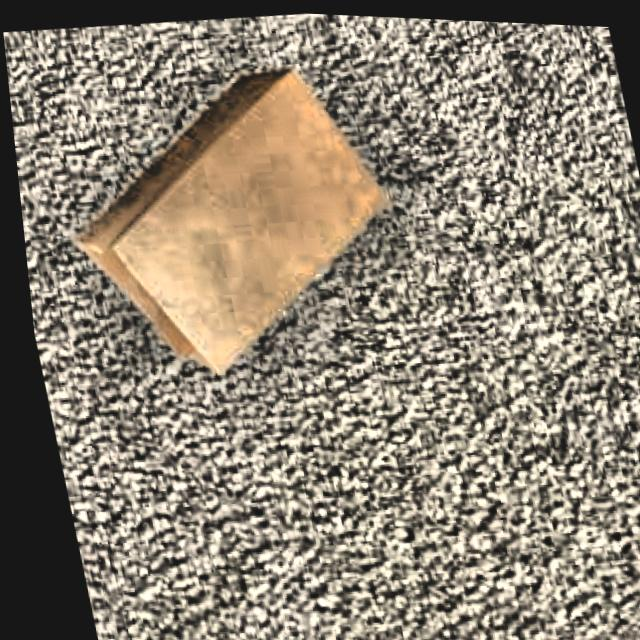Paper-bag: (39, 46, 434, 417)
